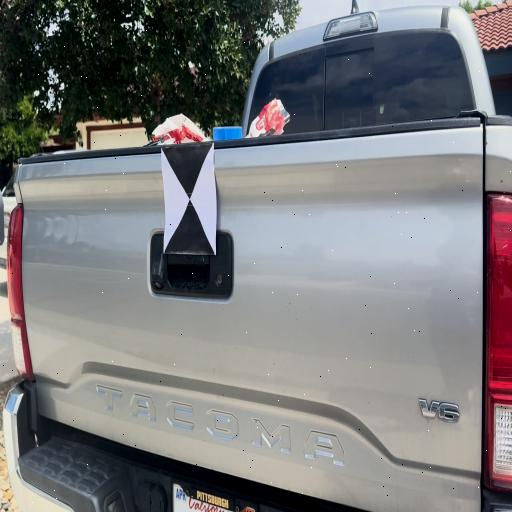target: (162, 147, 215, 253)
